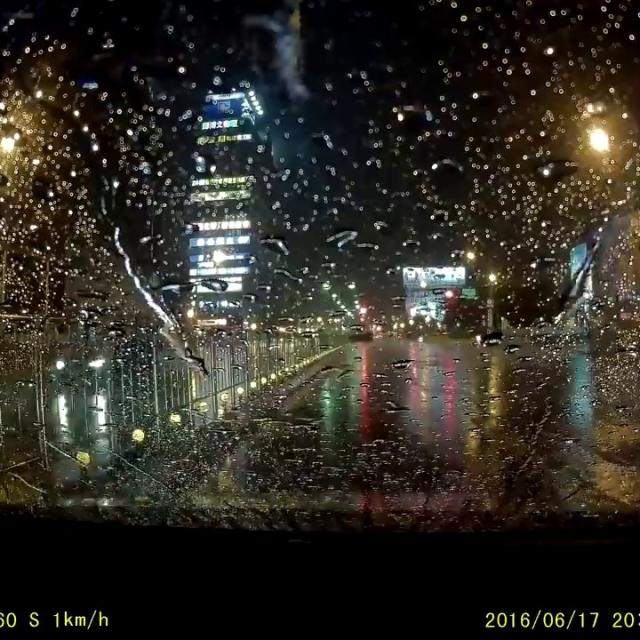Car: (47, 333, 133, 387)
